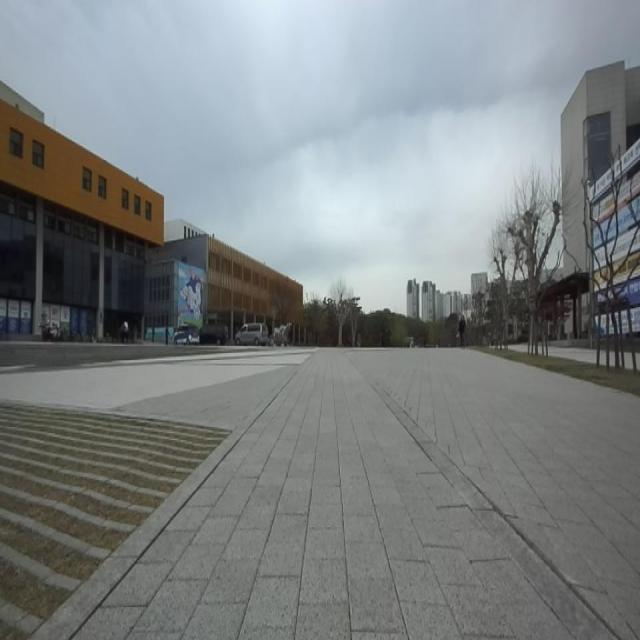sidewalk: (36, 353, 616, 639)
